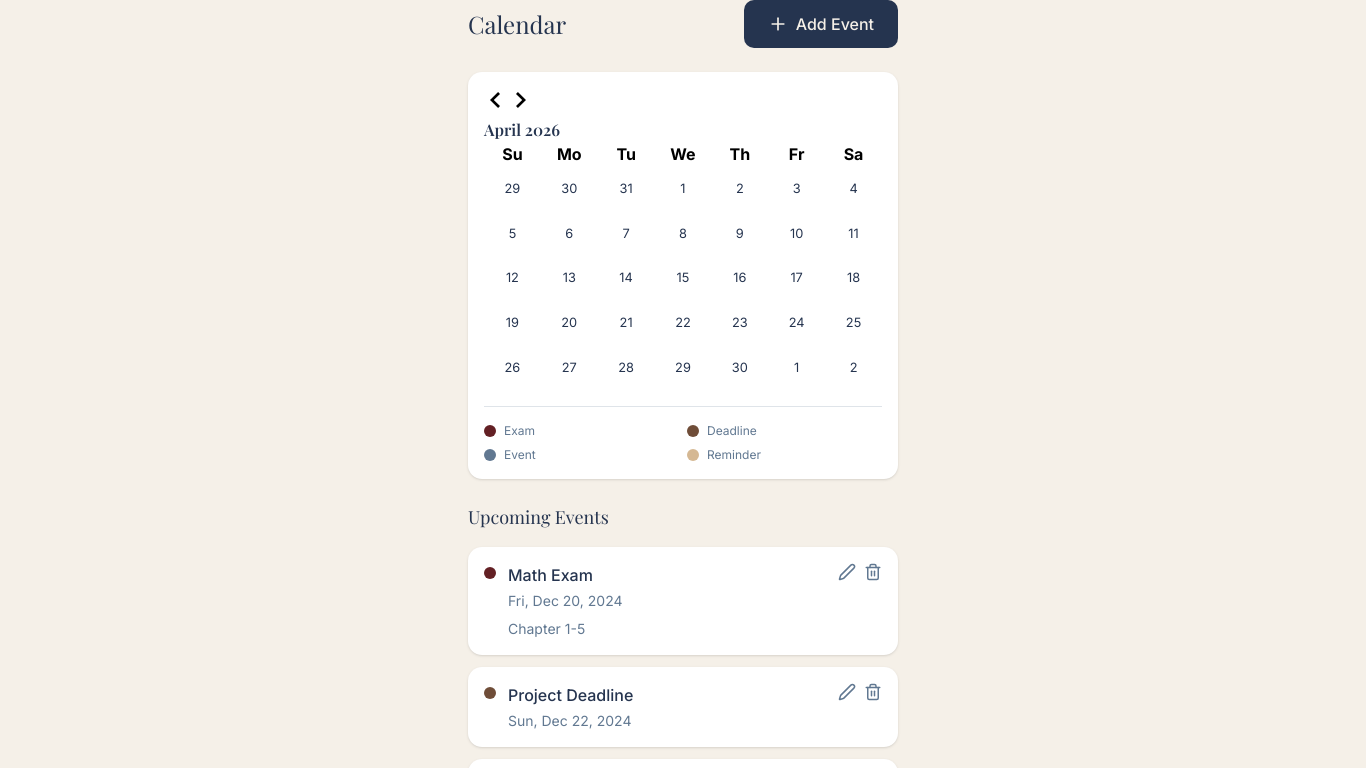
Test: 25. Test calendar module › 25.2 Test event editing › should open edit modal when edit button is clicked
This screenshot has width=1366, height=768.
// Find and click edit button for first event
Click the button named "edit event" in the row of "Math Exam" at (847, 572), box [838,563,856,581]
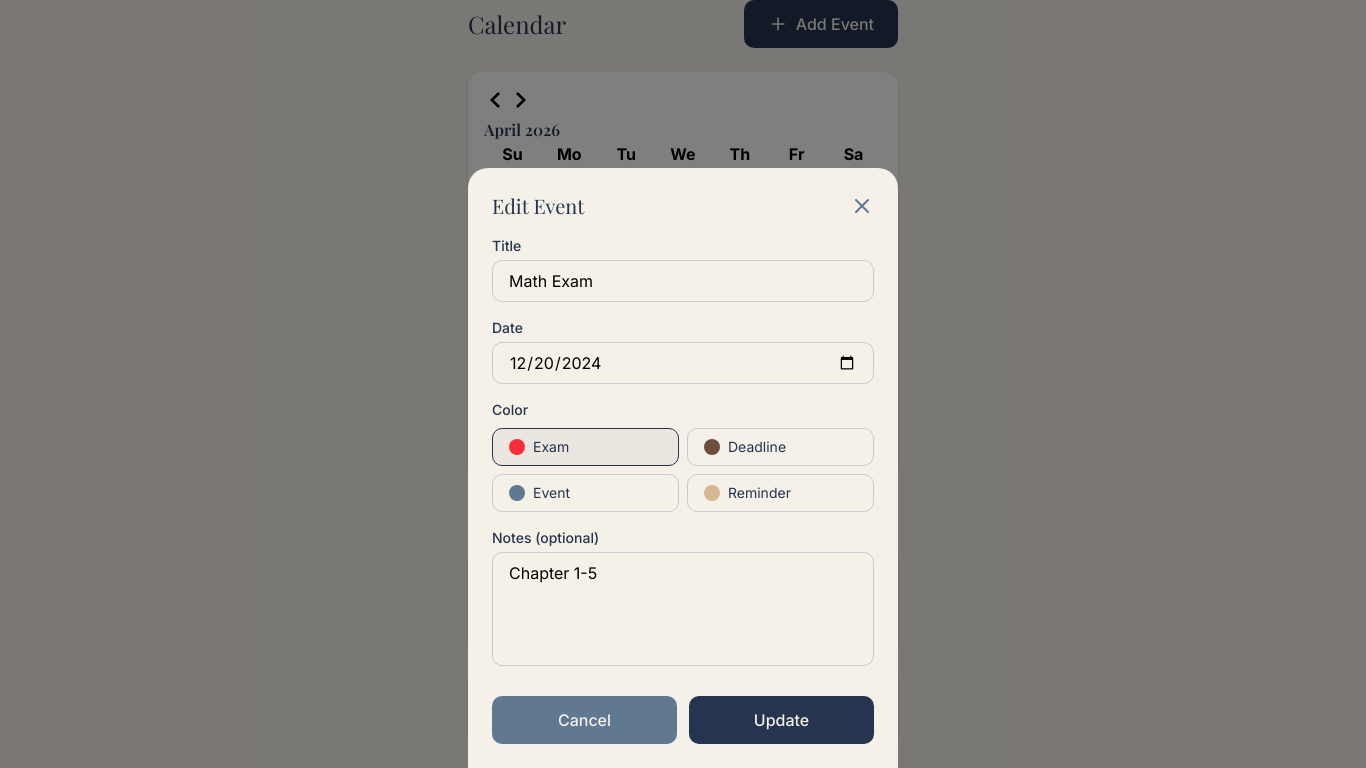
Expected: the heading "Edit Event" is shown, [492,192,584,220]
Expected: the field showing "Math Exam" is shown, [492,260,874,302]
